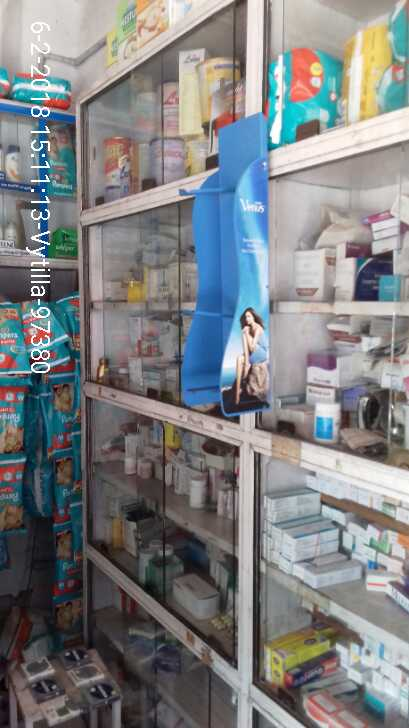pampers: (44, 379, 77, 454), (54, 526, 86, 601), (51, 460, 84, 519), (1, 462, 29, 531), (1, 306, 26, 368), (1, 384, 22, 457)
